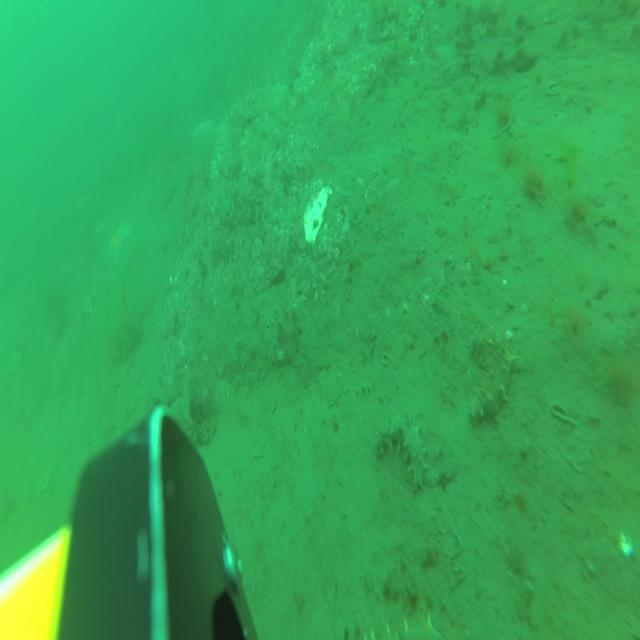holothurian: (471, 335, 519, 426), (378, 412, 426, 488), (361, 614, 445, 640), (77, 286, 96, 331)
starfish: (104, 220, 131, 270), (194, 120, 219, 143)
